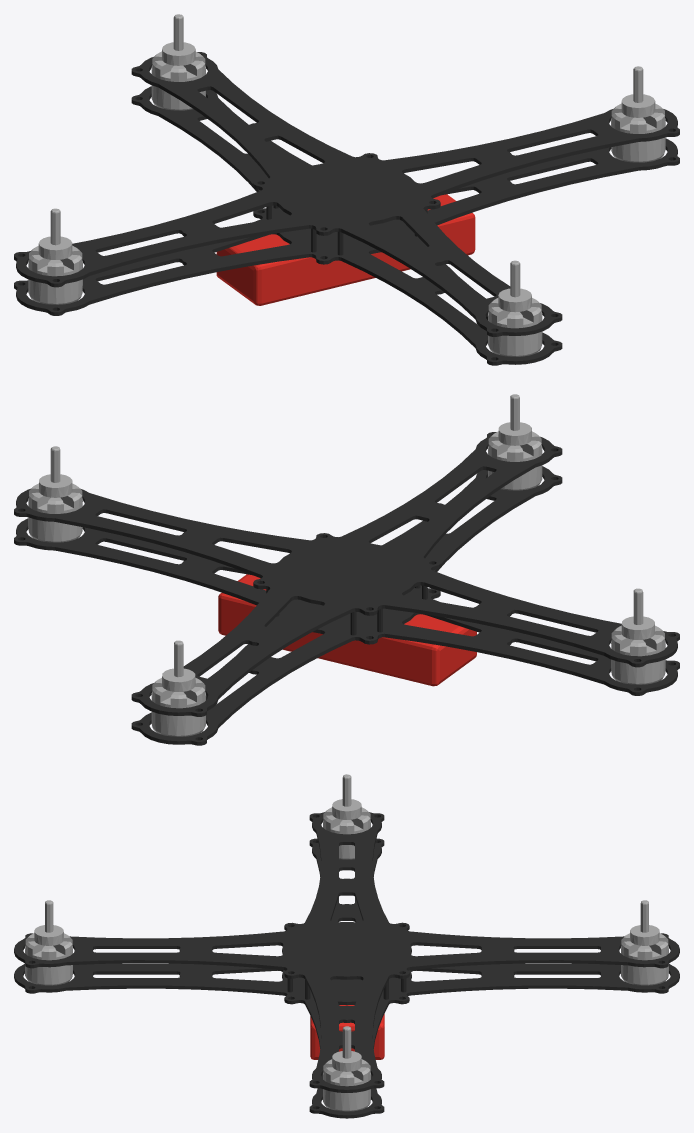
Rendered from crazy2fly_body.dae.
The picture shows the model from 3 angles, top to bottom: view 1: azimuth 30°, elevation 25°; view 2: azimuth 150°, elevation 25°; view 3: azimuth 270°, elevation 25°; orthographic projection. The views are drawn at different scales.
Parts seen in each view (by area): view 1: Crazy2FlyAssembly AllCATPart body, Crazy2FlyAssembly AllCATPart motors, Crazy2FlyAssembly AllCATPart battery; view 2: Crazy2FlyAssembly AllCATPart body, Crazy2FlyAssembly AllCATPart motors, Crazy2FlyAssembly AllCATPart battery; view 3: Crazy2FlyAssembly AllCATPart body, Crazy2FlyAssembly AllCATPart motors, Crazy2FlyAssembly AllCATPart battery.
Boxes of the visible parts, x1=… form: Crazy2FlyAssembly AllCATPart body: x1=14, y1=52, x2=679, y2=365; Crazy2FlyAssembly AllCATPart motors: x1=28, y1=14, x2=665, y2=356; Crazy2FlyAssembly AllCATPart battery: x1=216, y1=194, x2=475, y2=305; Crazy2FlyAssembly AllCATPart body: x1=14, y1=432, x2=679, y2=745; Crazy2FlyAssembly AllCATPart motors: x1=28, y1=394, x2=665, y2=736; Crazy2FlyAssembly AllCATPart battery: x1=218, y1=574, x2=476, y2=686; Crazy2FlyAssembly AllCATPart body: x1=14, y1=812, x2=679, y2=1118; Crazy2FlyAssembly AllCATPart motors: x1=25, y1=774, x2=668, y2=1111; Crazy2FlyAssembly AllCATPart battery: x1=310, y1=1005, x2=384, y2=1059.
Size of the model in its own units: 380 by 380 by 71.
